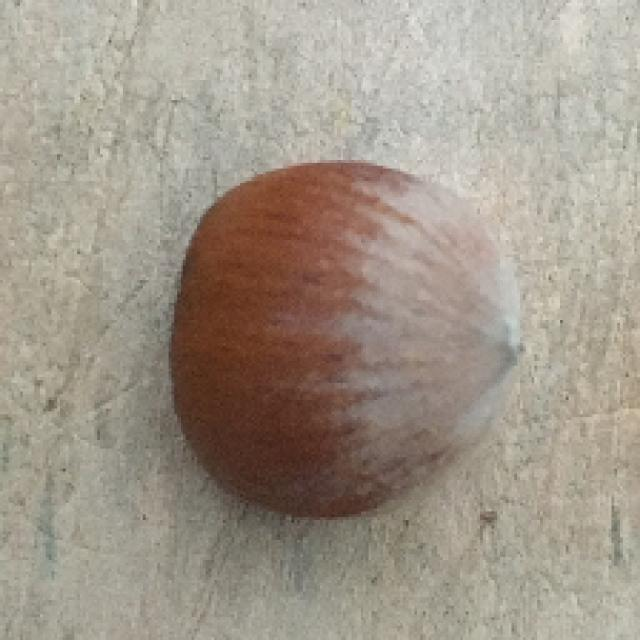QualityHazelnut: (164, 161, 535, 524)
